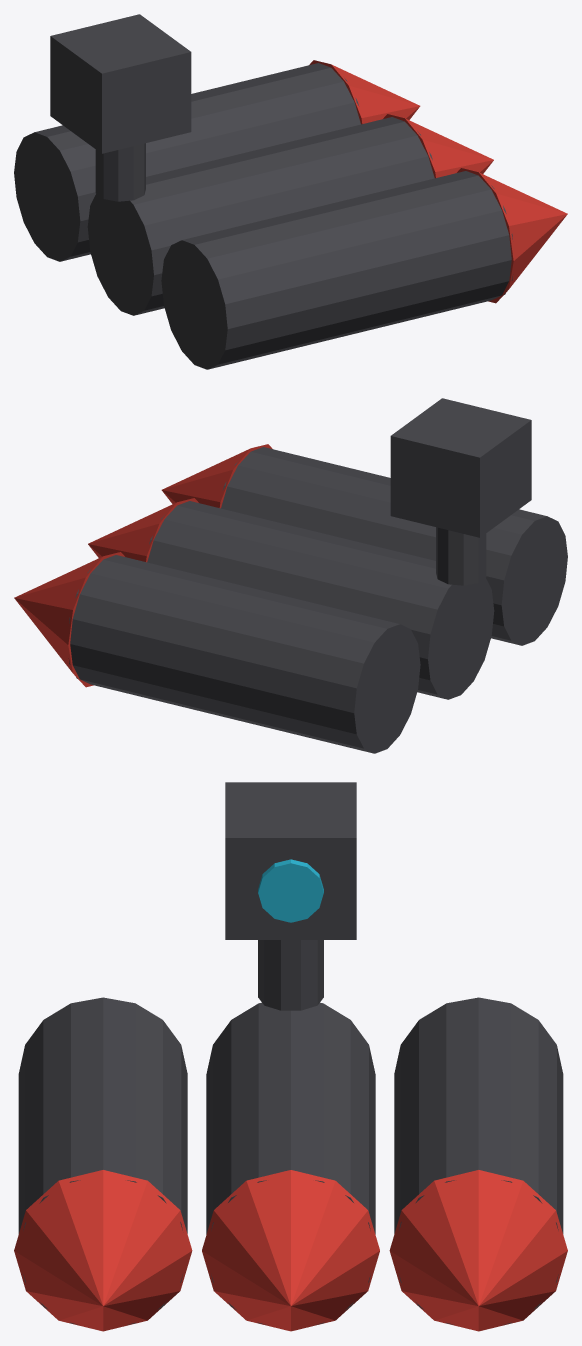
Rendered from missile_turret.obj.
The picture shows the model from 3 angles, top to bottom: view 1: azimuth 30°, elevation 25°; view 2: azimuth 150°, elevation 25°; view 3: azimuth 270°, elevation 25°; orthographic projection. The views are drawn at different scales.
Visible parts, largest first — view 1: MissileTurret; view 2: MissileTurret; view 3: MissileTurret.
Boxes of the visible parts, x1,y1,x2,y2 form: MissileTurret: [14, 14, 567, 369]; MissileTurret: [14, 398, 567, 753]; MissileTurret: [14, 782, 567, 1331].
Bounding box in the file's own units: 0.655 × 0.405 × 0.59.
